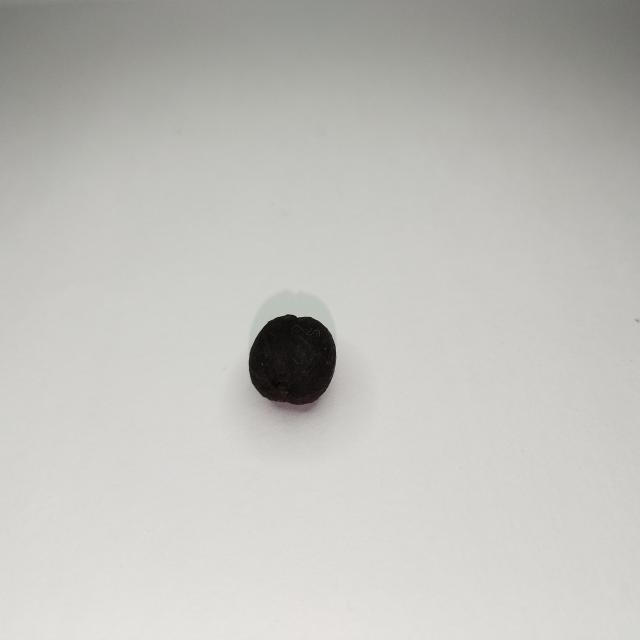Danado: (248, 317, 336, 406)
